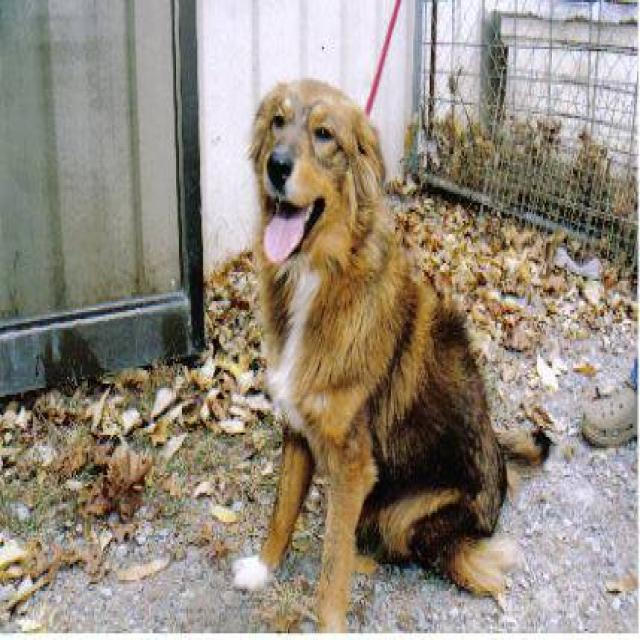Dog: (240, 67, 388, 288)
